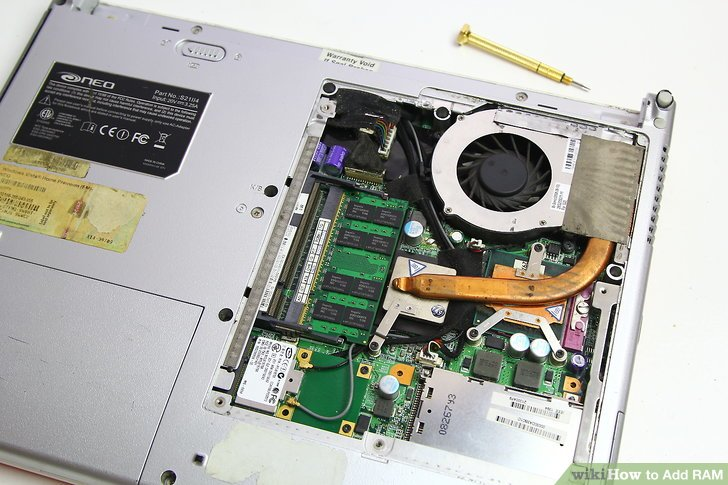ram: (299, 180, 409, 347)
